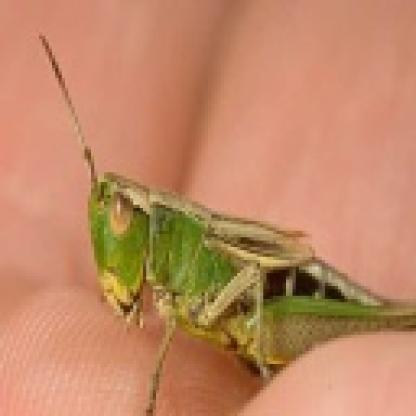grasshopper: (40, 91, 416, 396)
